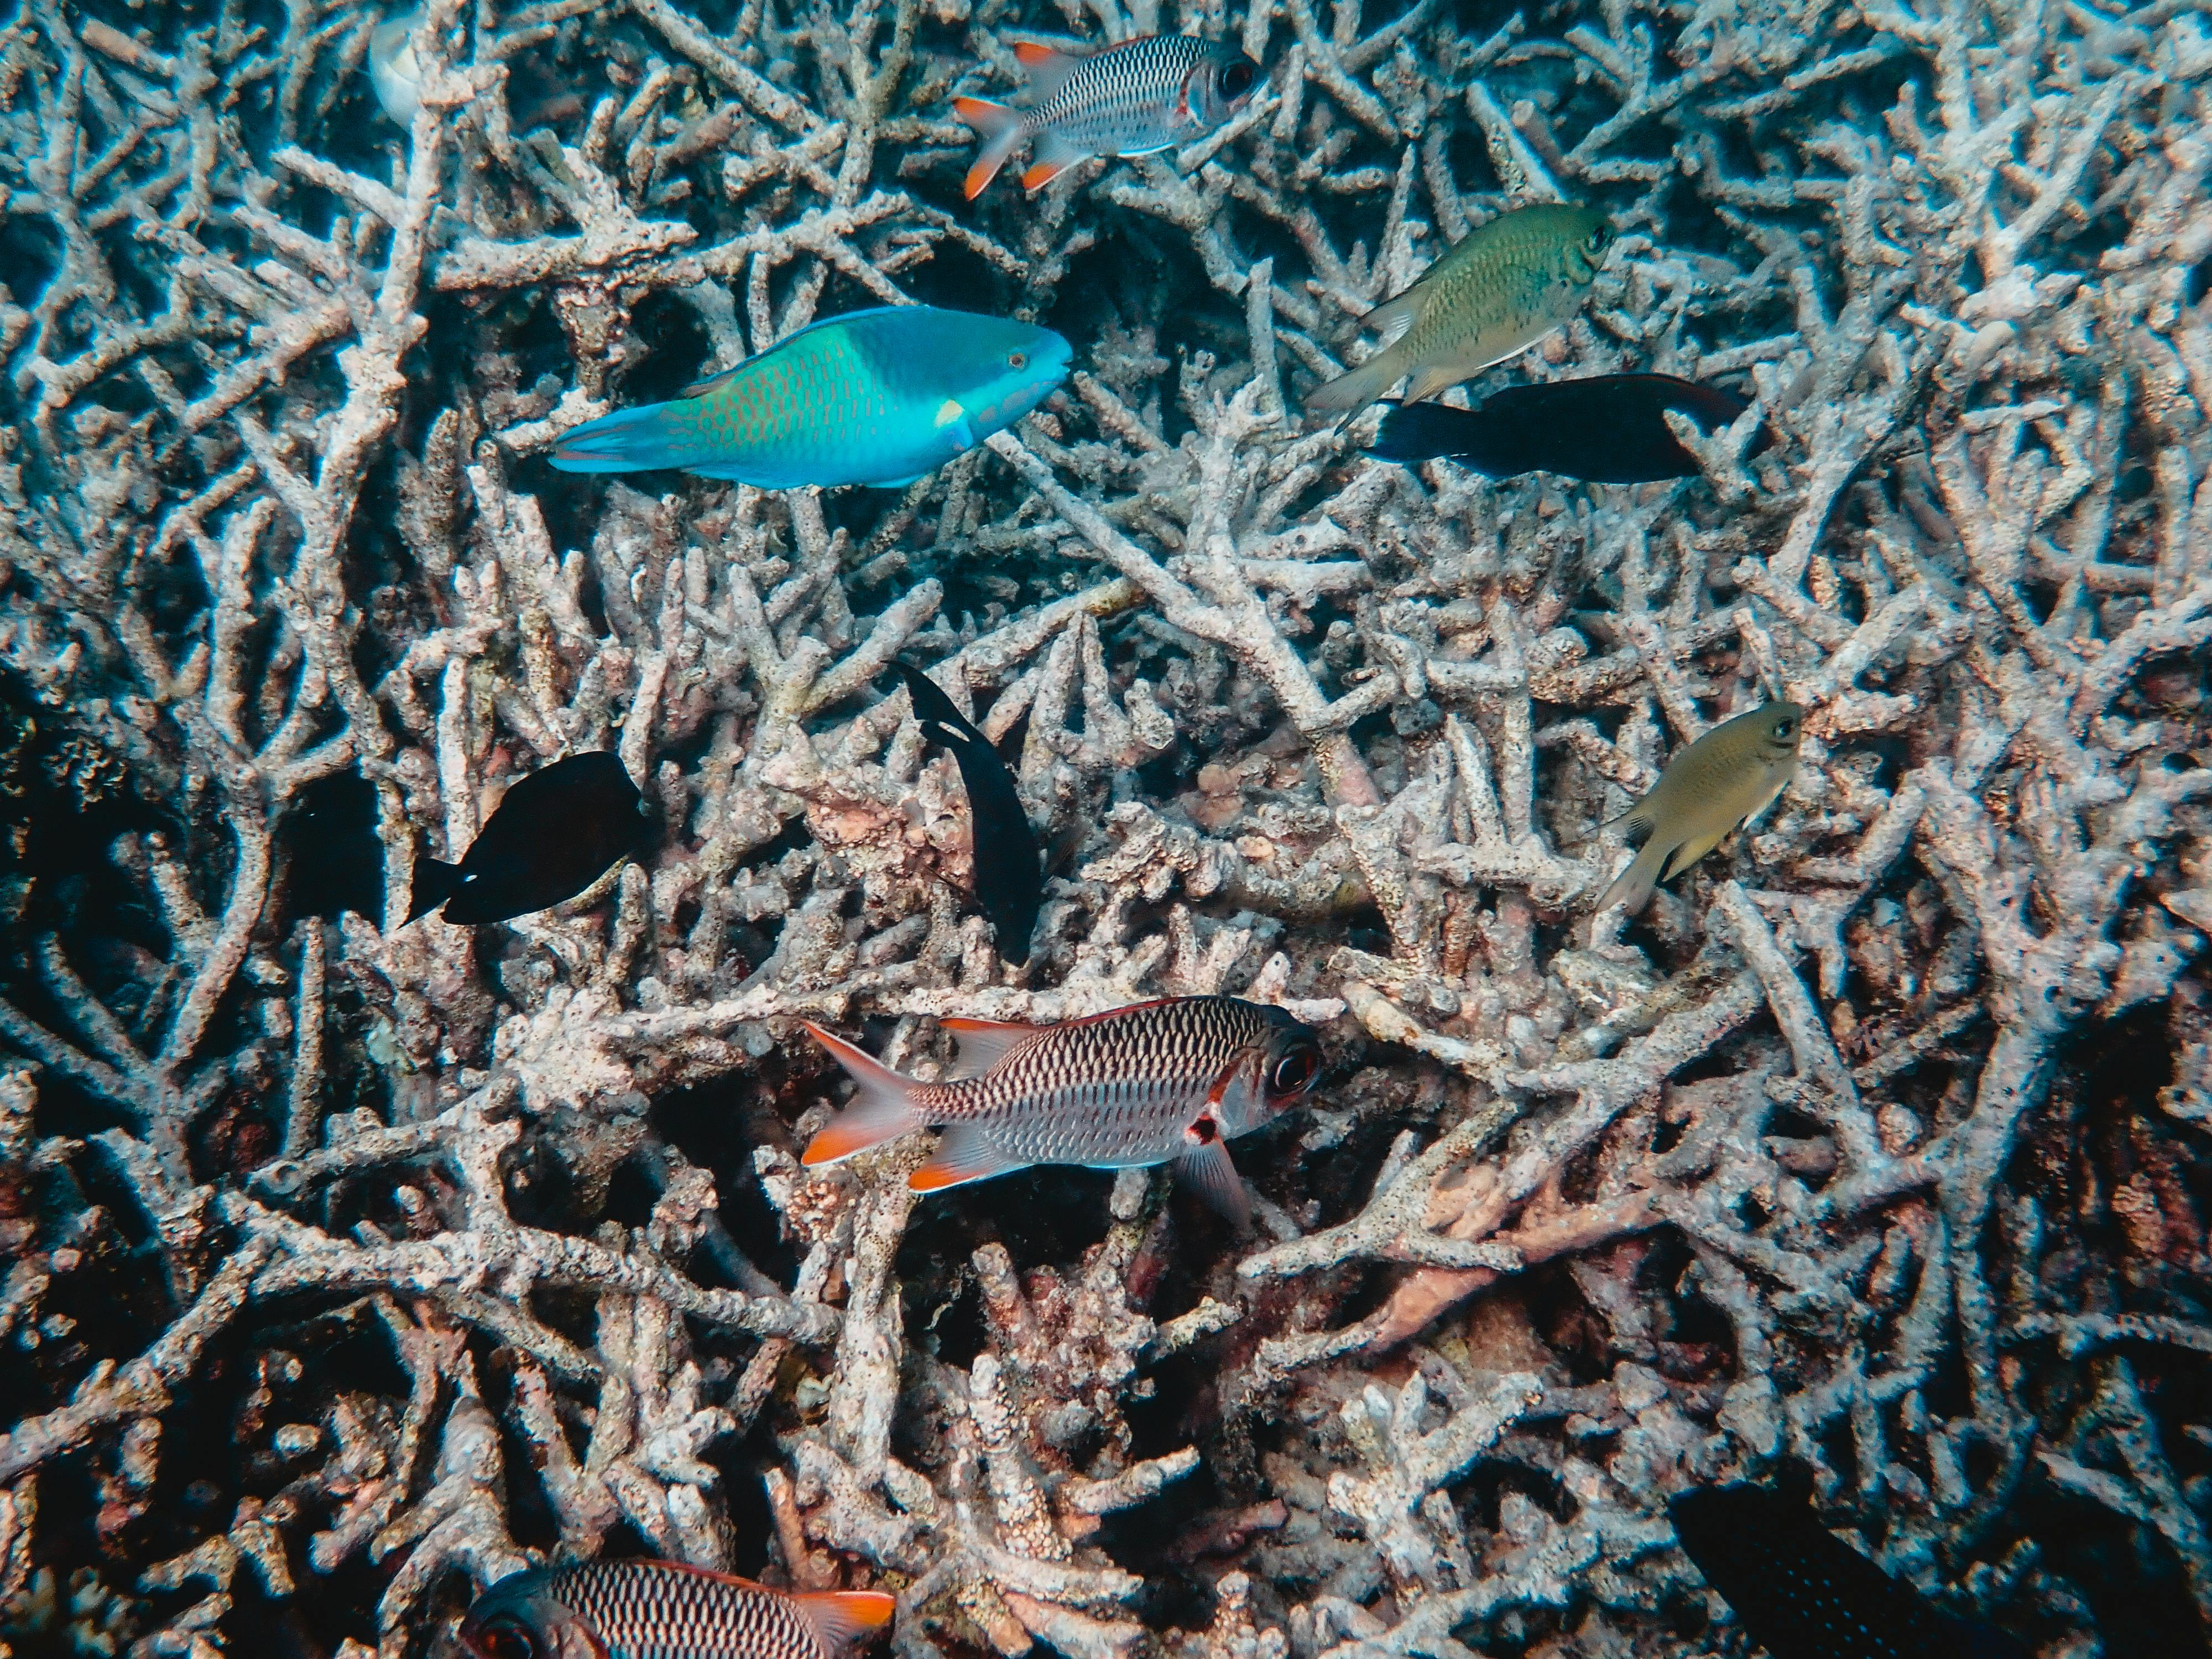fishRound: (878, 647, 1101, 967), (1350, 366, 1784, 488), (401, 751, 667, 931)
fishSmall: (794, 988, 1334, 1248), (545, 300, 1080, 498), (1299, 199, 1622, 436), (1559, 697, 1810, 922), (946, 31, 1268, 200), (448, 1554, 894, 1659)
